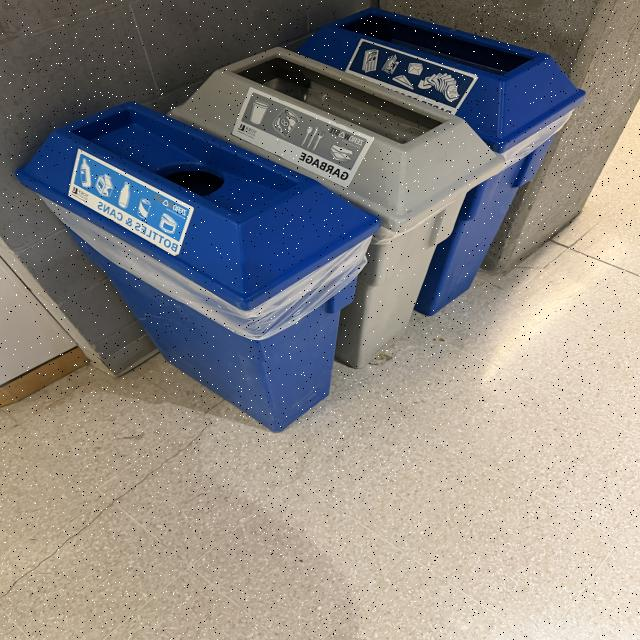Dustbin: (16, 5, 587, 434)
